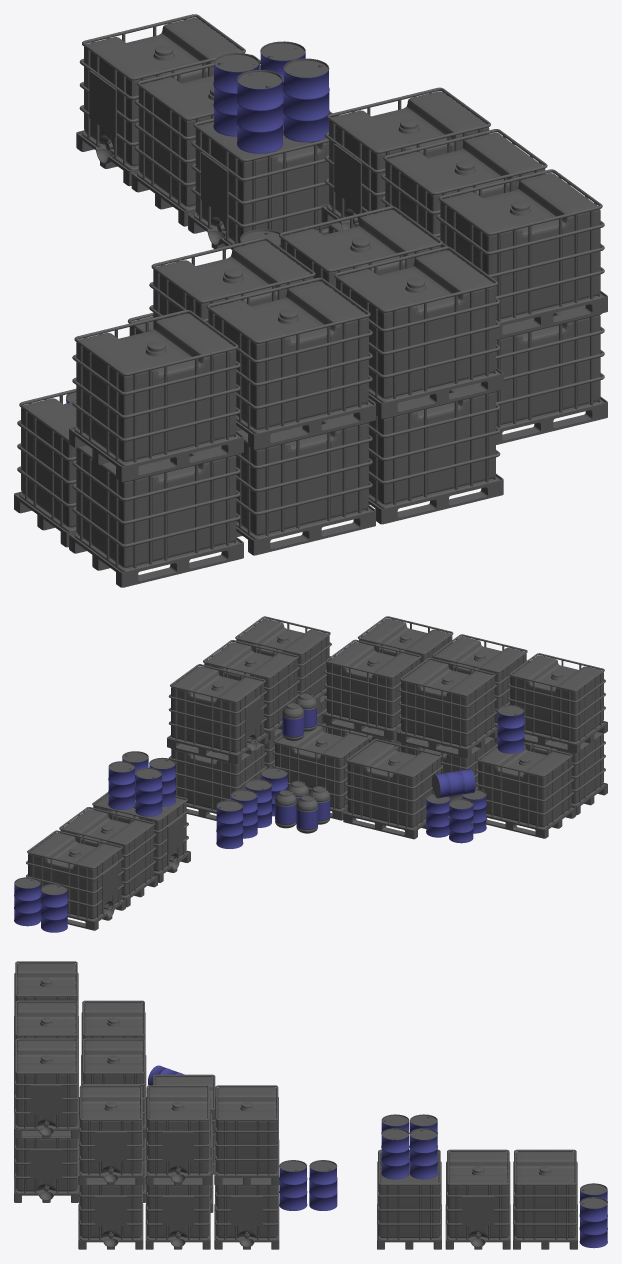
The model's file is coklu_barrelvekutu.fbx.
3 renders of one model, top to bottom at view 1: azimuth 30°, elevation 25°; view 2: azimuth 150°, elevation 25°; view 3: azimuth 270°, elevation 25°, orthographic. The views are drawn at different scales.
Parts seen in each view (by area): view 1: polySurface17; view 2: polySurface17; view 3: polySurface17.
Boxes of the visible parts, x1,y1,x2,y2 form: polySurface17: (14,14,607,587); polySurface17: (14,616,607,932); polySurface17: (14,961,607,1249).
Bounding box in the file's own units: 701 × 263 × 1096.
